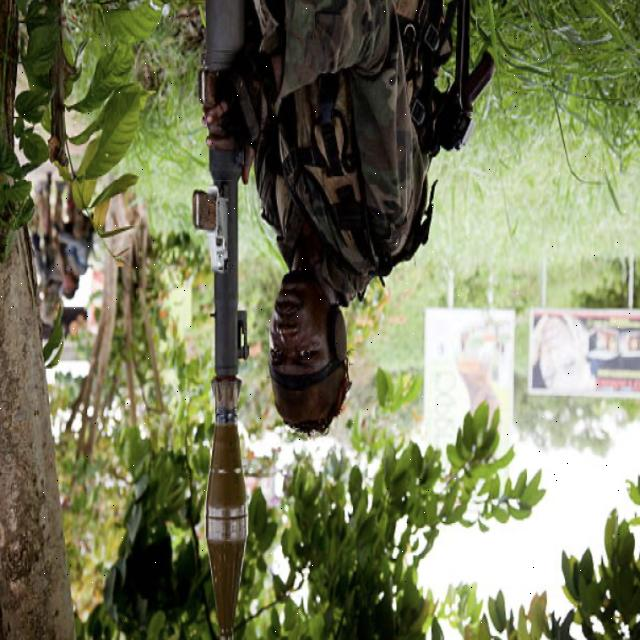bazooka: (202, 1, 254, 640)
